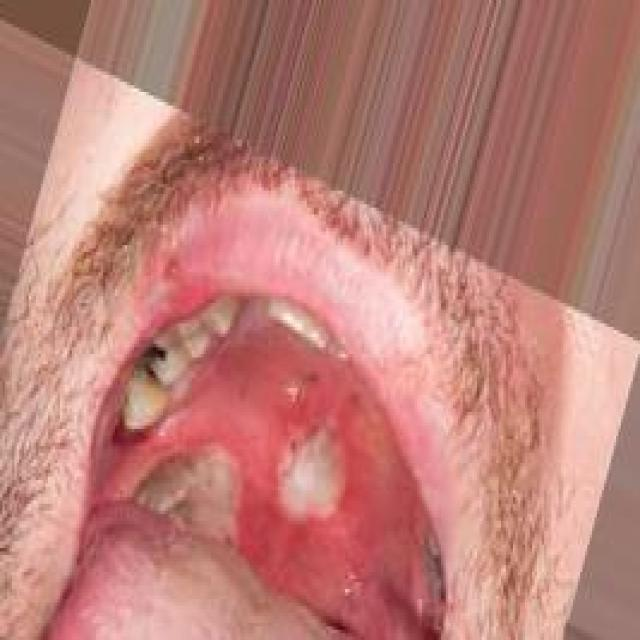caries: (128, 326, 179, 404), (423, 531, 457, 614)
